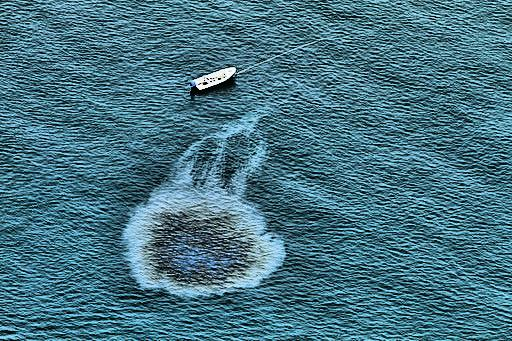sheen: (125, 120, 285, 295)
